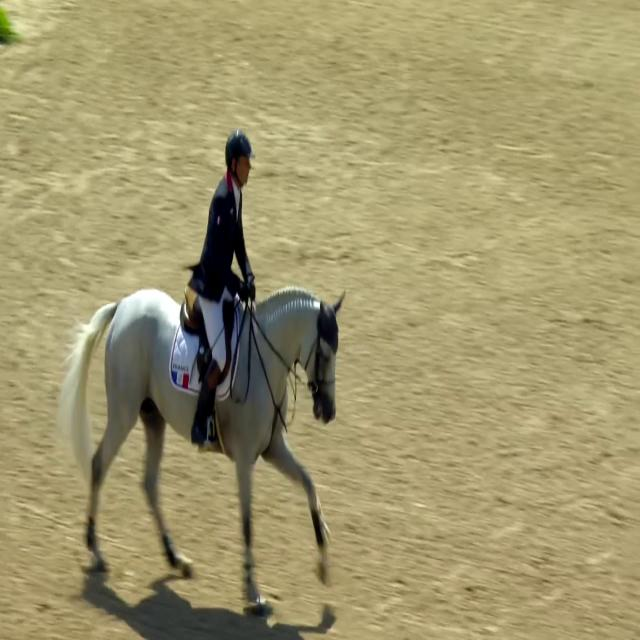Horse Rider: (178, 85, 275, 426)
Horse Running: (55, 274, 367, 622)
